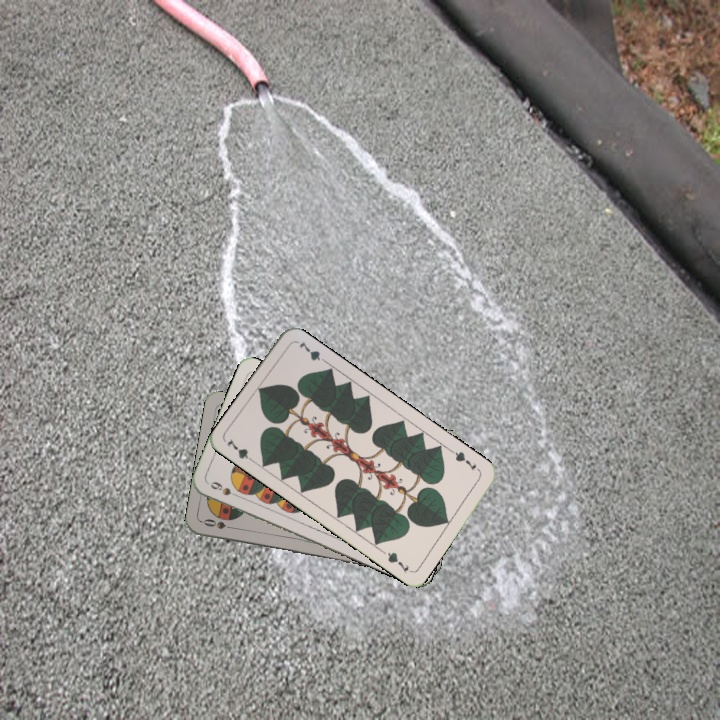G7: (223, 434, 258, 466), (447, 446, 479, 473)
S9: (206, 477, 244, 501)
SO: (199, 515, 240, 532)
